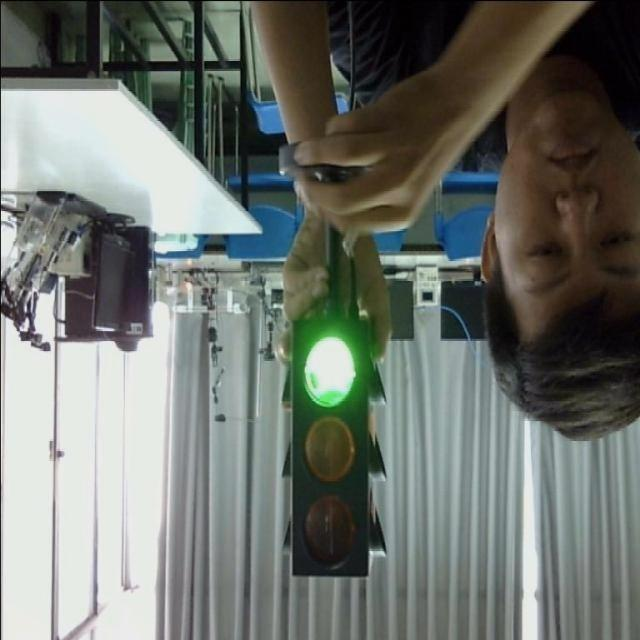Green: (280, 299, 400, 586)
